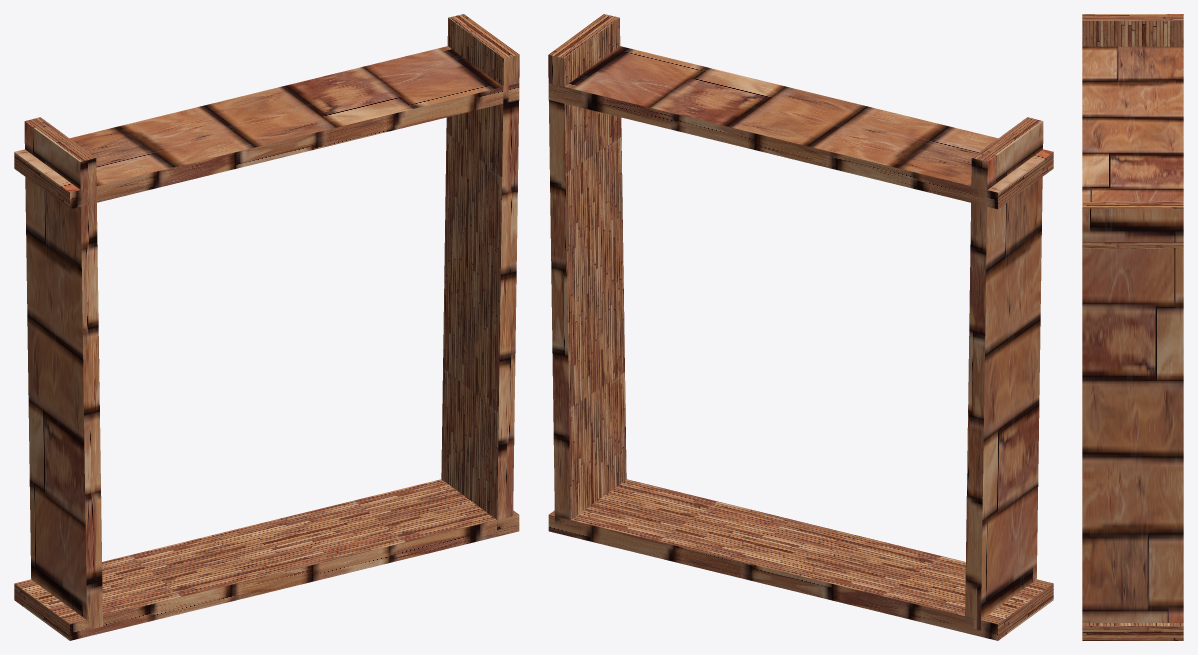
The model's file is walls.obj.
3 views of the same model, side by side, from view 1: azimuth 30°, elevation 25°; view 2: azimuth 150°, elevation 25°; view 3: azimuth 270°, elevation 25° (orthographic). The views are drawn at different scales.
Visible parts, largest first — view 1: Cube.004, Cube.007, Cube.005, Cube.006; view 2: Cube.004, Cube.007, Cube.005, Cube.006; view 3: Cube.007, Cube.005, Cube.004, Cube.006.
Part boxes in pixels (bbox=[...]): Cube.004: bbox=[24, 117, 102, 629]; Cube.007: bbox=[441, 14, 519, 530]; Cube.005: bbox=[14, 46, 519, 209]; Cube.006: bbox=[14, 479, 519, 640]; Cube.004: bbox=[965, 117, 1043, 630]; Cube.007: bbox=[548, 14, 626, 527]; Cube.005: bbox=[548, 46, 1053, 209]; Cube.006: bbox=[548, 479, 1053, 640]; Cube.007: bbox=[1082, 201, 1183, 622]; Cube.005: bbox=[1082, 46, 1183, 248]; Cube.004: bbox=[1082, 14, 1183, 46]; Cube.006: bbox=[1082, 623, 1183, 640].
Bounding box in the file's own units: 32.8 × 33.2 × 7.04.
